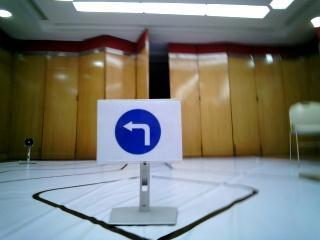left: (103, 103, 169, 153)
